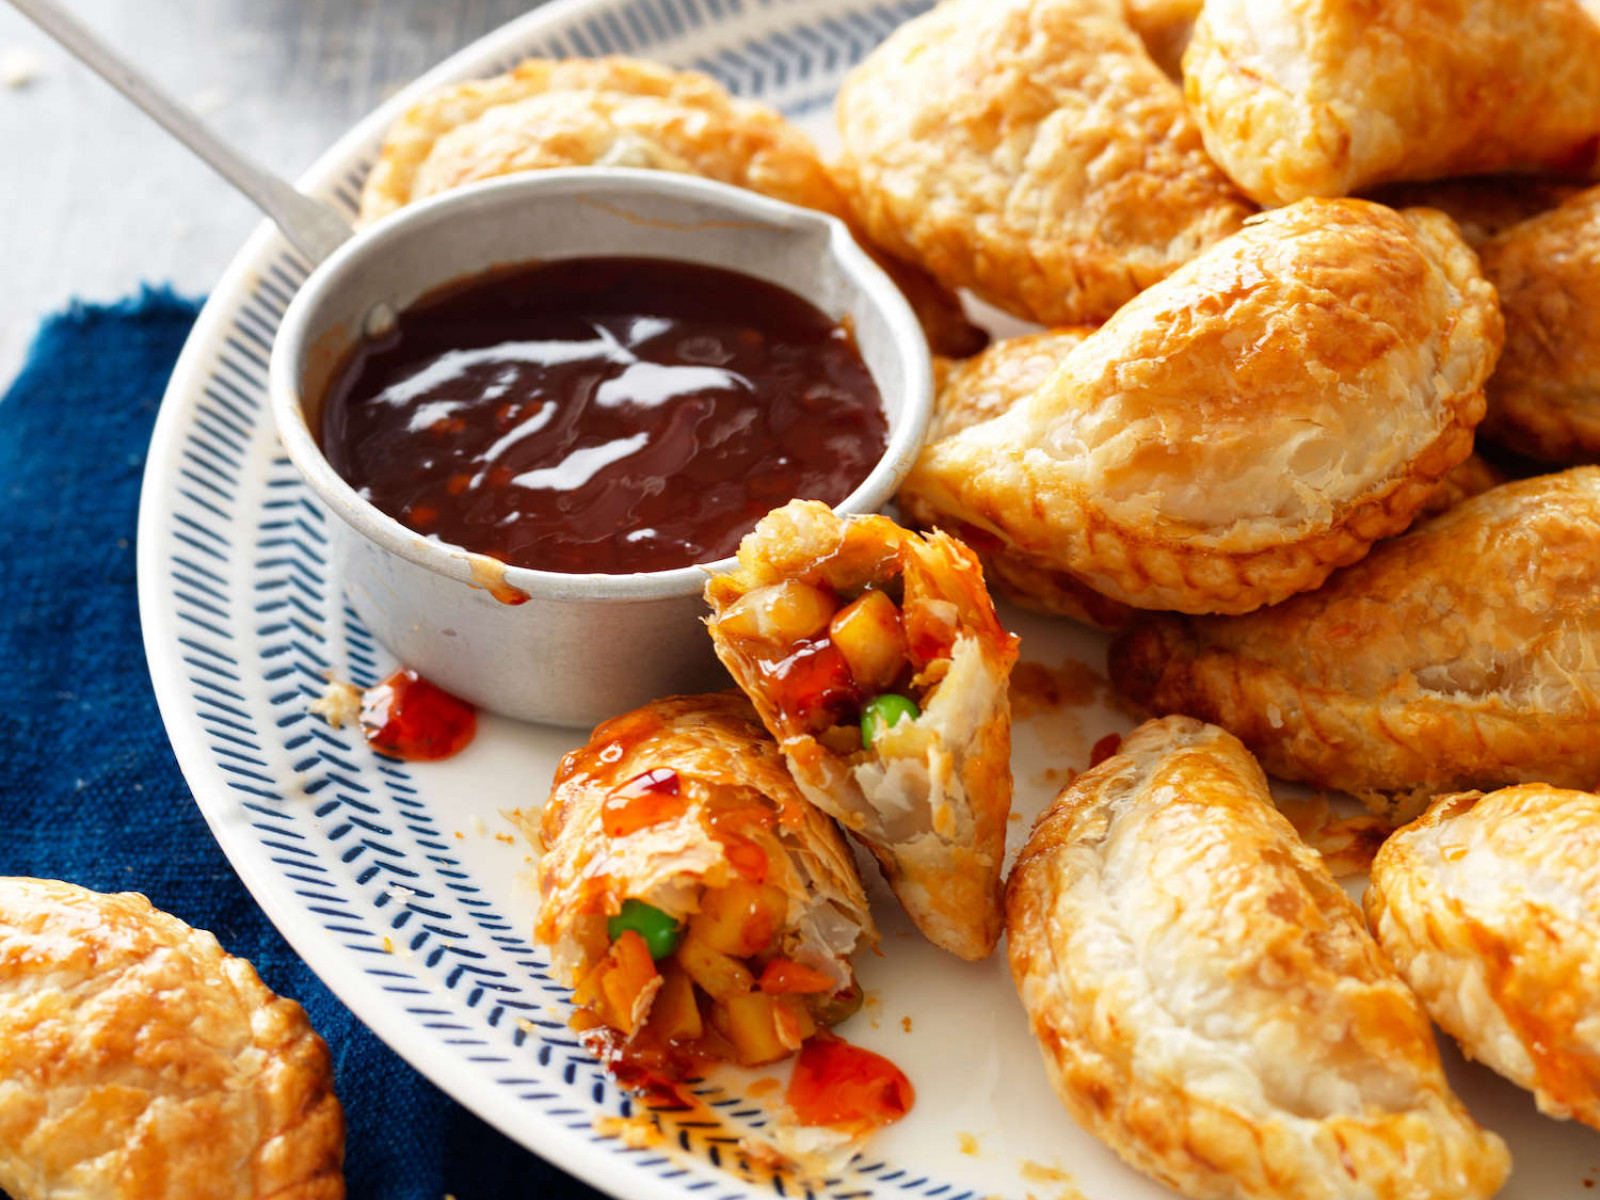Curry Puff: (454, 541, 1054, 1056), (969, 169, 1519, 582), (1019, 705, 1450, 1192), (1112, 478, 1599, 760), (0, 836, 339, 1199), (852, 0, 1225, 279), (339, 18, 877, 203)
